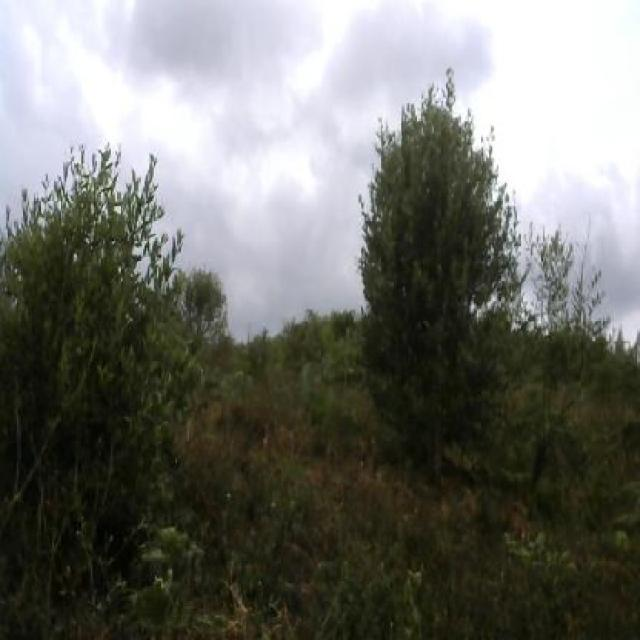tree trunk: (394, 92, 463, 476)
